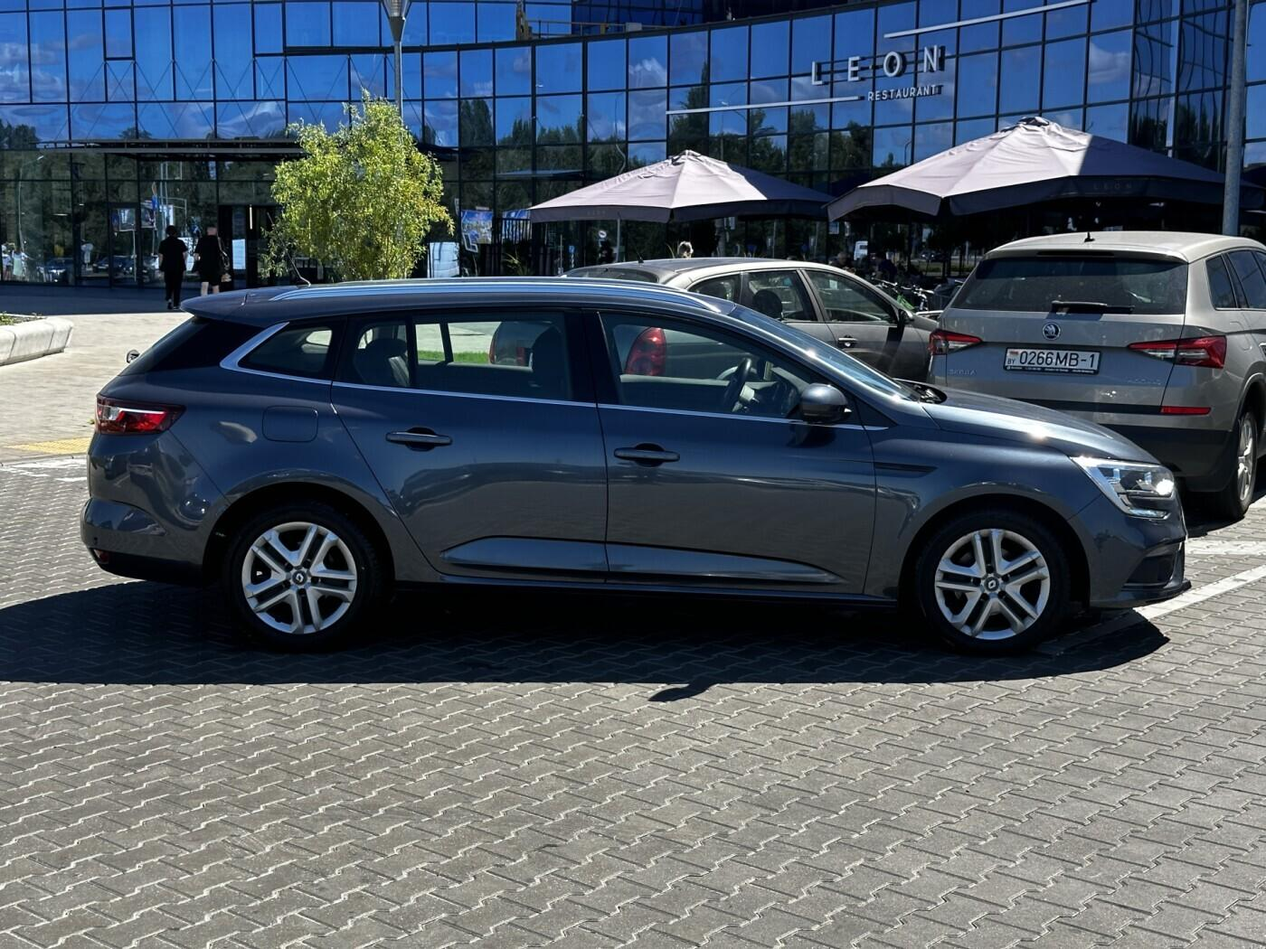Megane_2016-2020: (79, 270, 1207, 683)
